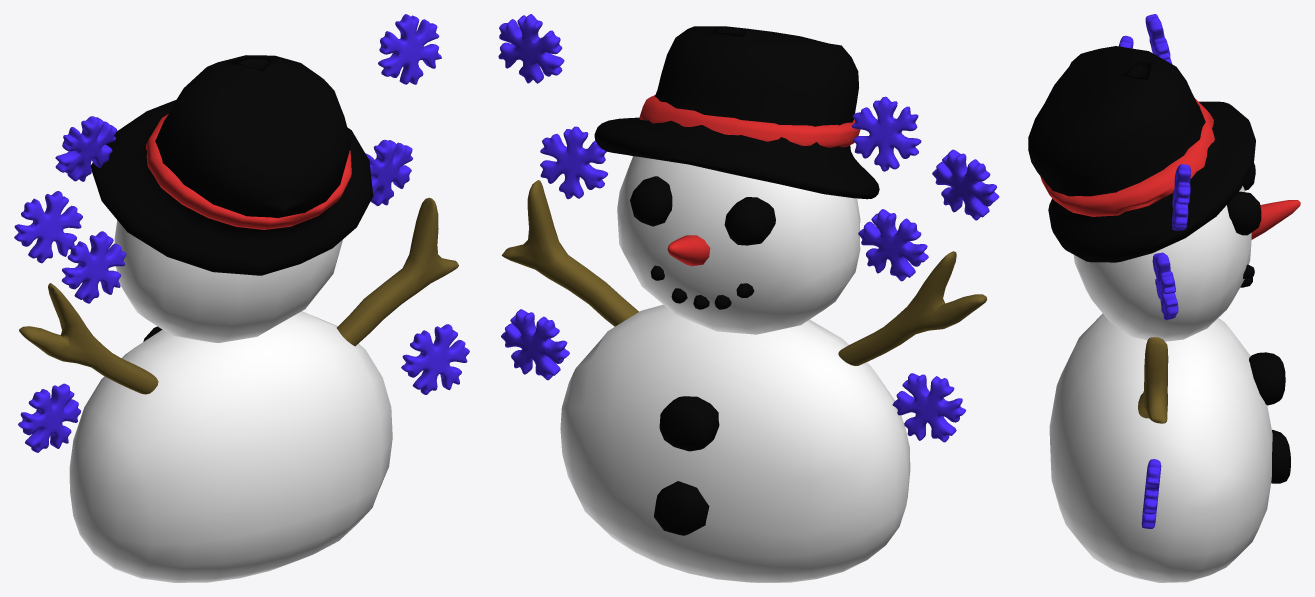
File: snowman FBX.glb
3 renders of one model, left to right at view 1: azimuth 30°, elevation 25°; view 2: azimuth 150°, elevation 25°; view 3: azimuth 270°, elevation 25°, orthographic. The views are drawn at different scales.
Visible parts, largest first — view 1: S7, snowman2, S6, S8, S2, S13, S10, S11_01, S12, S11, S14, S15; view 2: S7, snowman2, S6, S8, S9, S2, S3, S14, S11, S15, S12, S11_01 (+4 smaller); view 3: S7, snowman2, S6, S2, S9, S8, S3, S15, S11_01, S10, S4, S14.
Part boxes in pixels (x1,y1,x2,y2): S7: [69, 311, 392, 582]; snowman2: [90, 55, 373, 275]; S6: [114, 220, 342, 342]; S8: [19, 197, 458, 394]; S2: [146, 114, 351, 229]; S13: [14, 191, 82, 263]; S10: [401, 324, 469, 394]; S11_01: [378, 14, 441, 84]; S12: [61, 231, 126, 303]; S11: [18, 383, 80, 452]; S14: [55, 116, 117, 181]; S15: [365, 139, 412, 205]; S7: [560, 304, 910, 582]; snowman2: [594, 26, 879, 199]; S6: [617, 156, 860, 334]; S8: [501, 180, 987, 365]; S9: [654, 396, 719, 535]; S2: [639, 95, 860, 147]; S3: [630, 176, 775, 245]; S14: [852, 96, 921, 171]; S11: [892, 373, 966, 442]; S15: [540, 126, 607, 199]; S12: [858, 209, 928, 281]; S11_01: [498, 14, 564, 83]; S7: [1049, 313, 1272, 582]; snowman2: [1028, 46, 1255, 262]; S6: [1073, 186, 1251, 341]; S2: [1040, 98, 1214, 216]; S9: [1249, 352, 1290, 483]; S8: [1138, 337, 1168, 423]; S3: [1227, 163, 1261, 235]; S15: [1152, 252, 1178, 319]; S11_01: [1172, 164, 1190, 230]; S10: [1141, 459, 1161, 528]; S4: [1251, 200, 1300, 239]; S14: [1145, 14, 1172, 63].
Bounding box in the file's own units: 0.5658 × 0.5846 × 0.2958.
